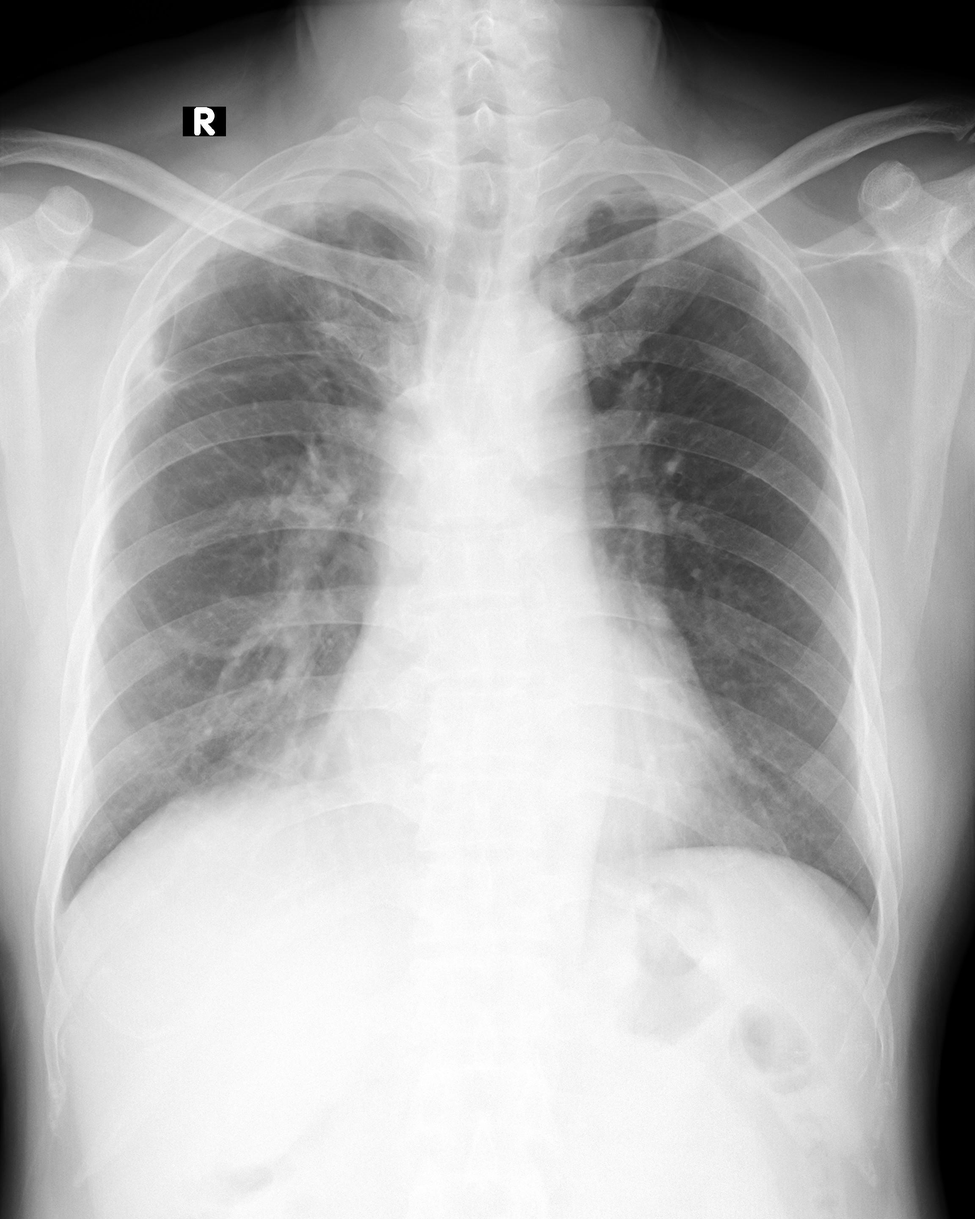Pleural thickening: (114, 233, 222, 408), (626, 167, 768, 256)
Pulmonary fibrosis: (221, 170, 372, 317)
